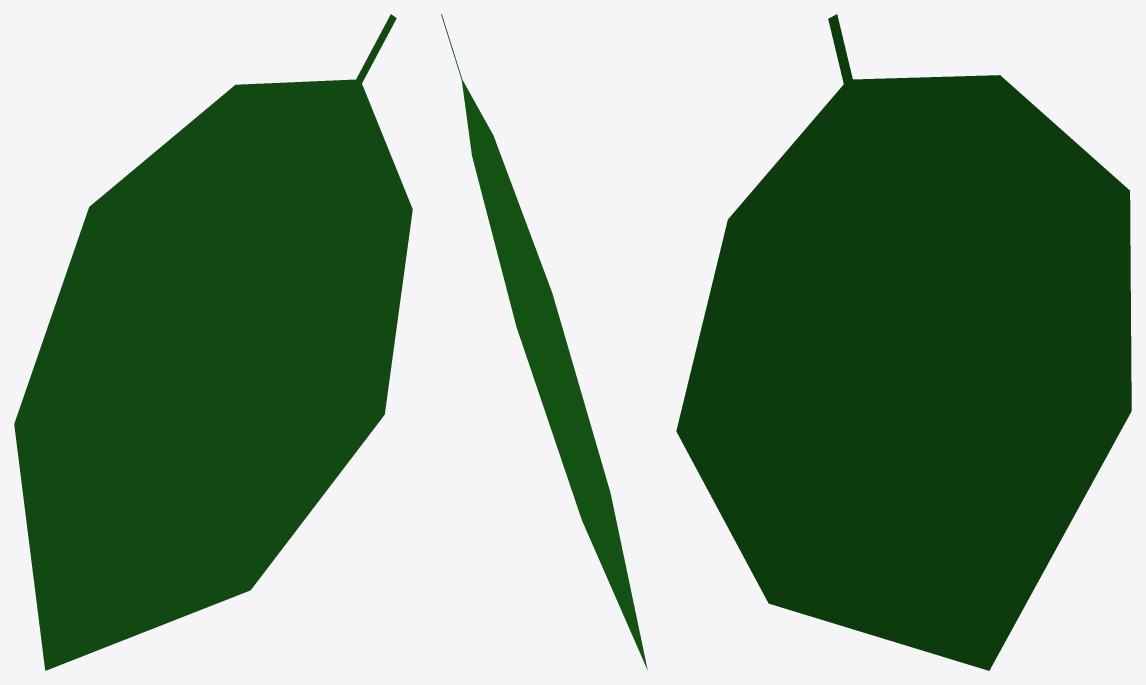
Rendered from Leaves.145.obj.
3 views of the same model, side by side, from view 1: azimuth 30°, elevation 25°; view 2: azimuth 150°, elevation 25°; view 3: azimuth 270°, elevation 25° (orthographic). The views are drawn at different scales.
Visible parts, largest first — view 1: Leaves.145_leaves.145; view 2: Leaves.145_leaves.145; view 3: Leaves.145_leaves.145.
Boxes of the visible parts, x1=… form: Leaves.145_leaves.145: x1=14, y1=14, x2=412, y2=670; Leaves.145_leaves.145: x1=441, y1=14, x2=647, y2=669; Leaves.145_leaves.145: x1=676, y1=14, x2=1131, y2=670.
Bounding box in the file's own units: 0.0651 × 0.1337 × 0.0651.
